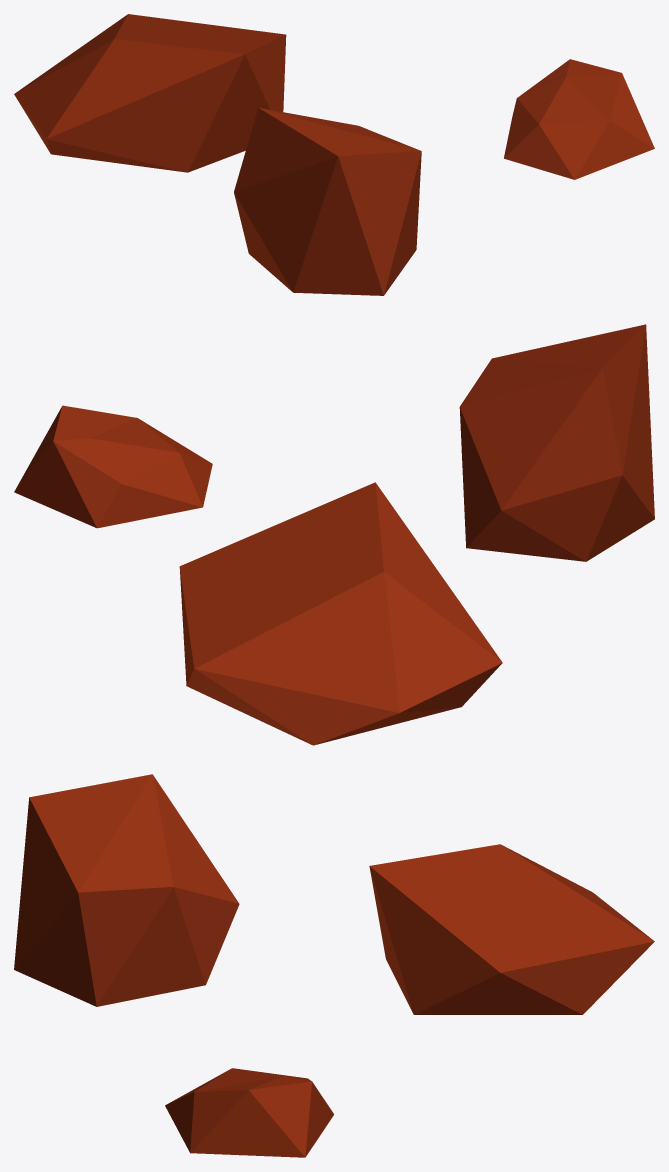
File: st1_rock5.fbx
3 views of the same model, one above another, from view 1: azimuth 30°, elevation 25°; view 2: azimuth 150°, elevation 25°; view 3: azimuth 270°, elevation 25° (orthographic). The views are drawn at different scales.
Visible parts, largest first — view 1: Icosphere_003; view 2: Icosphere_003; view 3: Icosphere_003.
Part boxes in pixels (<box>): Icosphere_003: <box>14,14,654,295</box>; Icosphere_003: <box>14,324,654,745</box>; Icosphere_003: <box>14,774,654,1157</box>.
Bounding box in the file's own units: 189 × 57.5 × 203.
